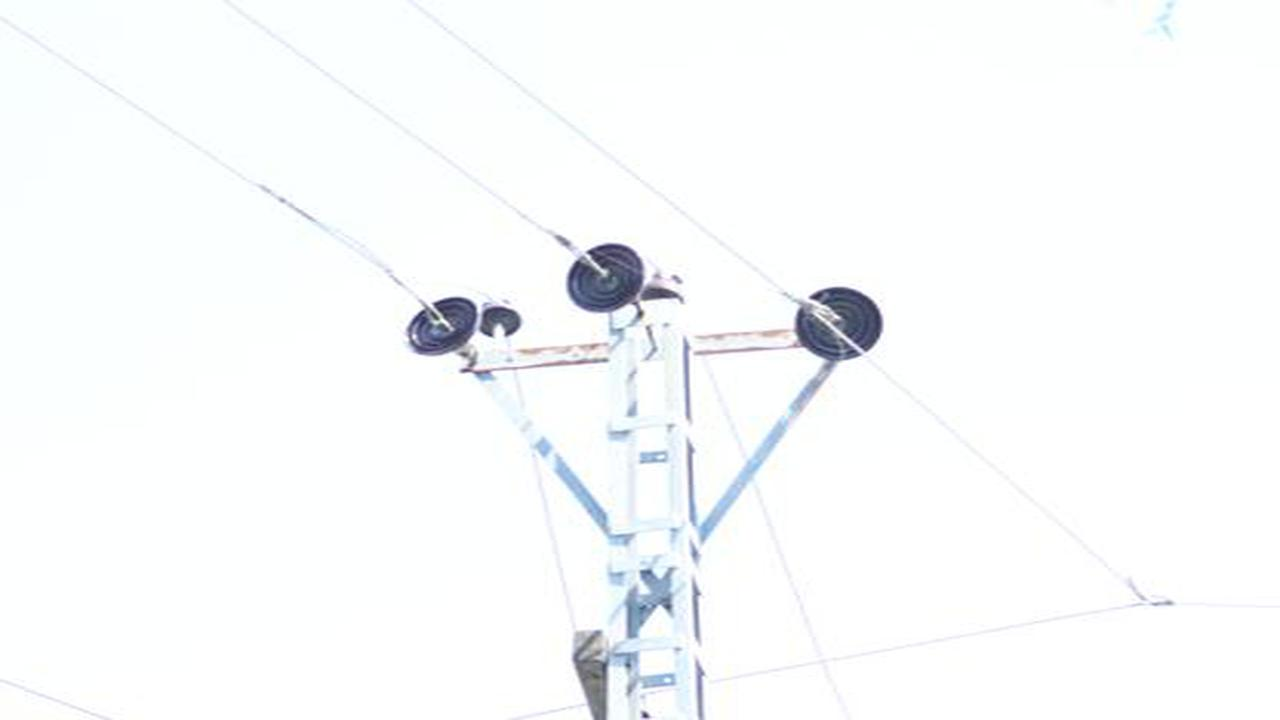insulator_disc: (793, 285, 885, 359), (562, 241, 646, 306), (403, 293, 480, 356)
insulator_pin: (646, 262, 686, 306), (483, 295, 522, 337)
